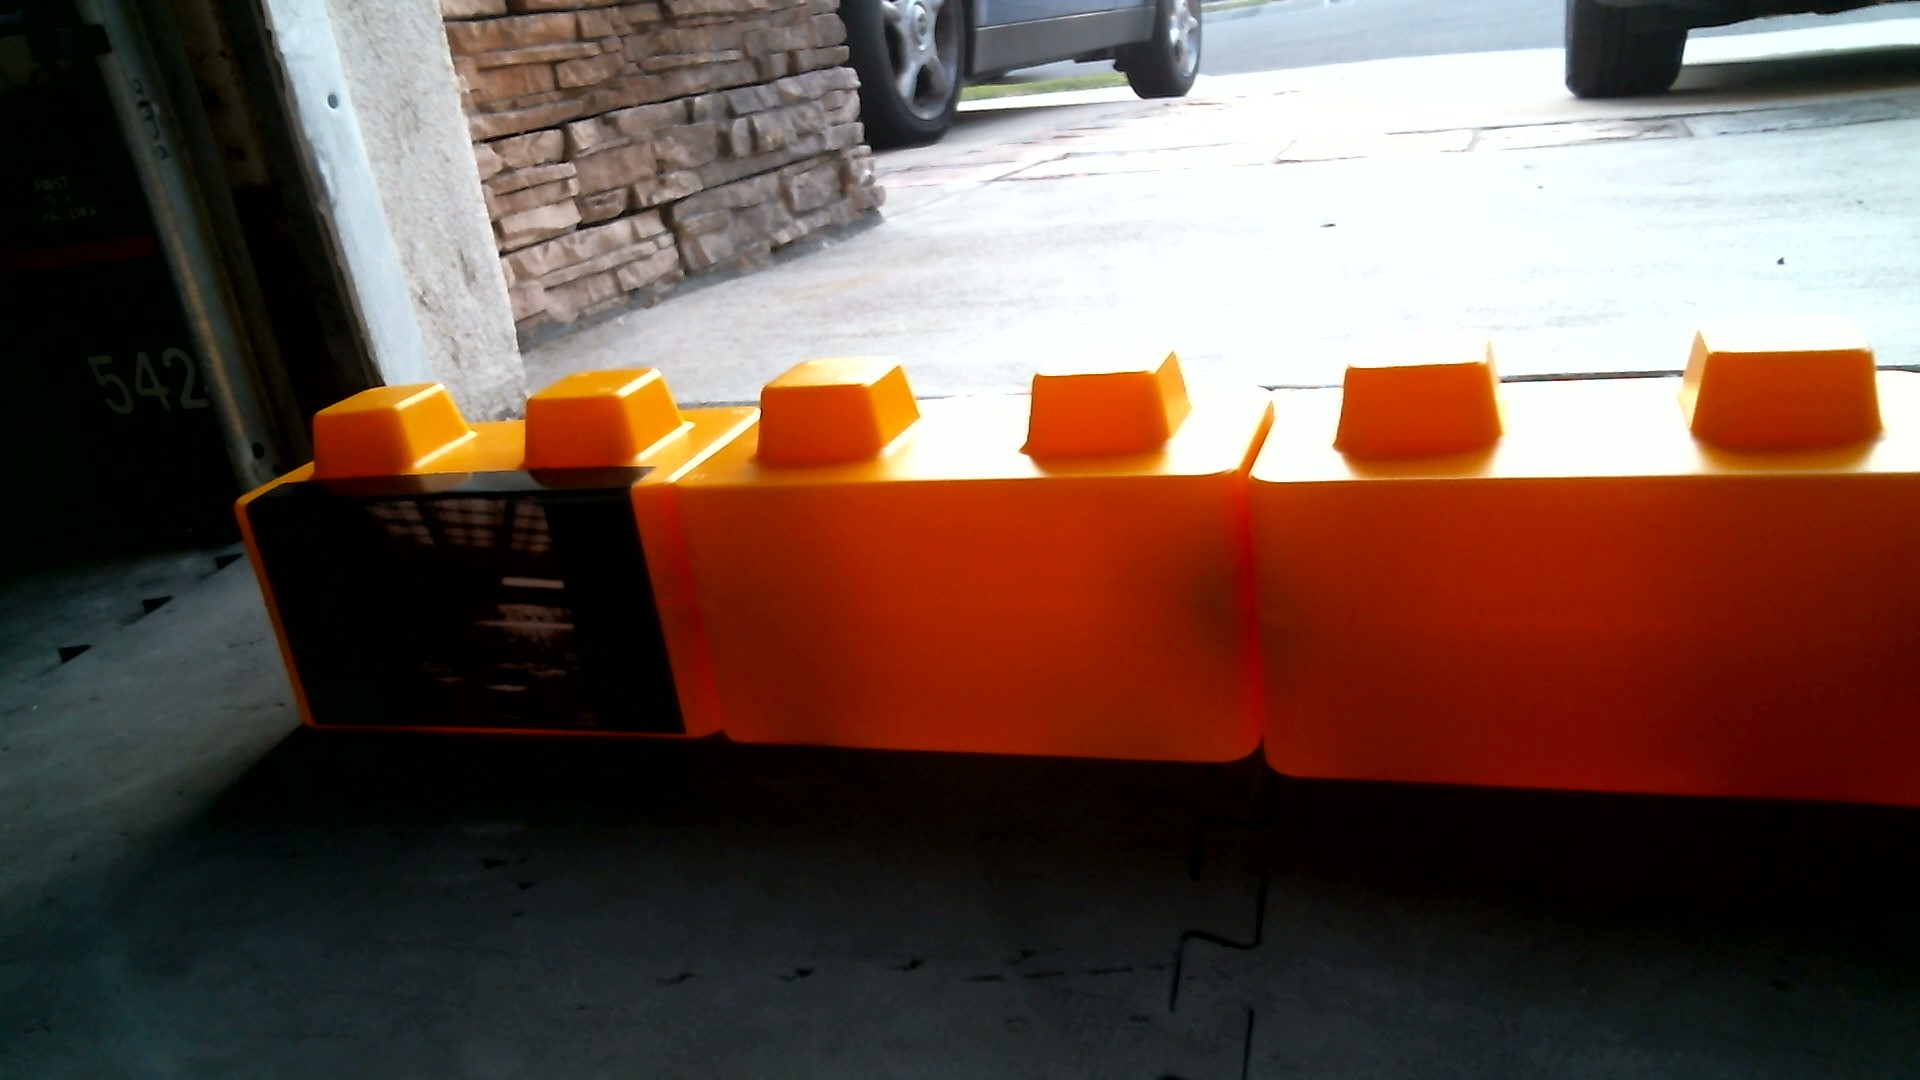left: (239, 363, 1919, 822)
